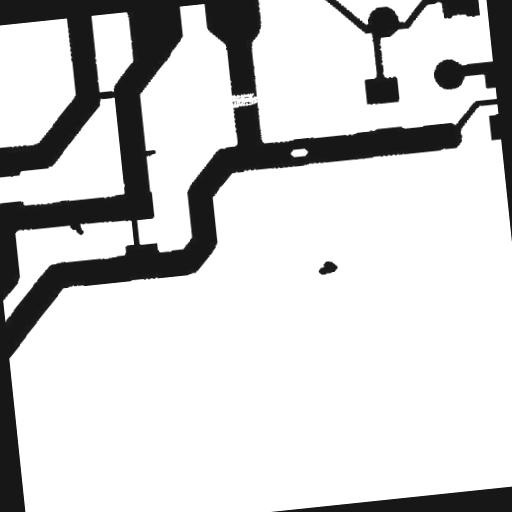copper: (309, 252, 346, 283)
open: (218, 84, 267, 116)
pin-hole: (282, 140, 316, 166)
short: (122, 207, 148, 256), (87, 81, 129, 108)
spur: (61, 212, 92, 244), (131, 142, 164, 166)
